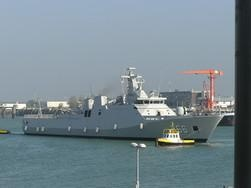otherboat: (151, 122, 195, 147)
warship: (21, 65, 217, 142)
